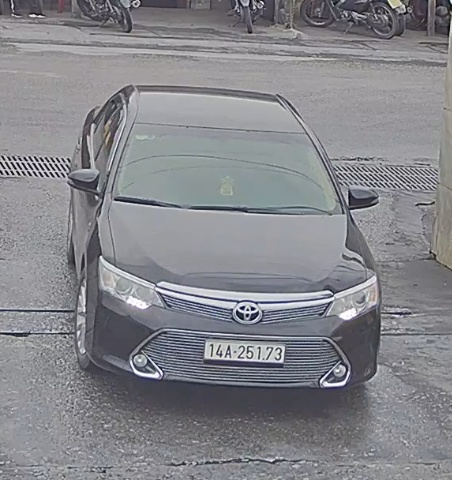vehicle plate: (198, 336, 290, 366)
